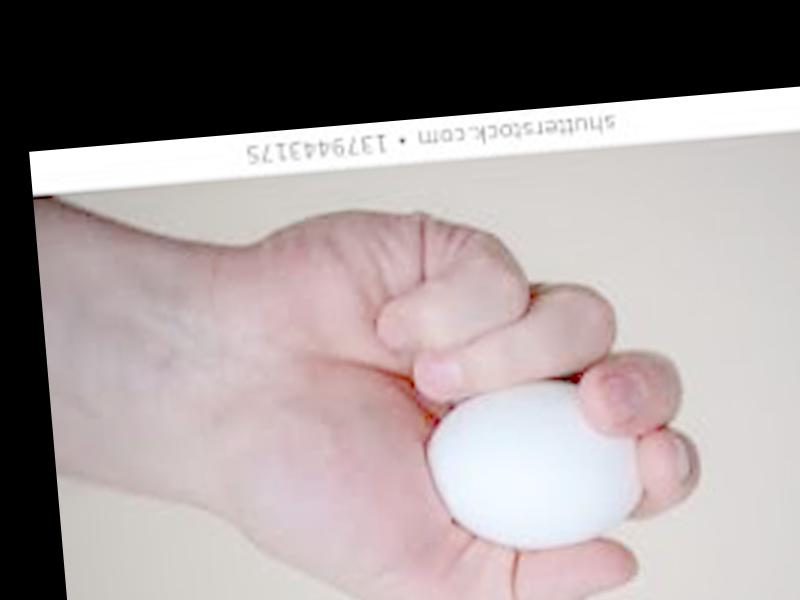Eggs: (418, 375, 646, 557)
